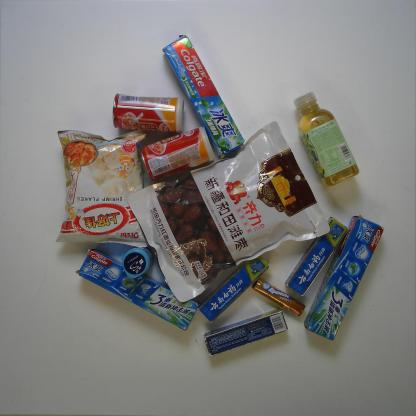Candy: (251, 276, 307, 318)
Canned Food: (138, 123, 216, 181), (110, 91, 188, 136)
Dried Food: (125, 119, 333, 304)
Drink: (292, 89, 361, 189)
Gum: (120, 245, 157, 280)
Personal Hygiene: (159, 31, 247, 162), (301, 213, 386, 342), (74, 247, 202, 332), (195, 253, 272, 326), (284, 214, 350, 298), (201, 306, 291, 359)
Puffed Food: (53, 126, 153, 250)
